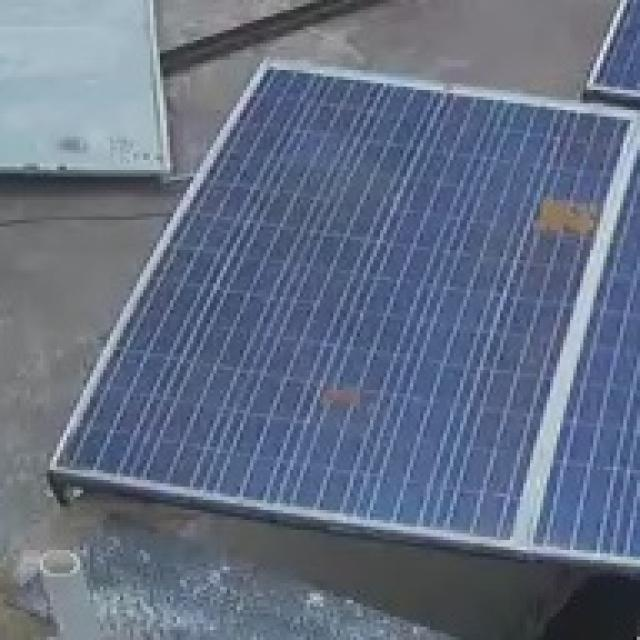Anomaly Solar Panel: (53, 63, 637, 543)
Surface Contaminant: (526, 186, 602, 243), (314, 379, 363, 408)
